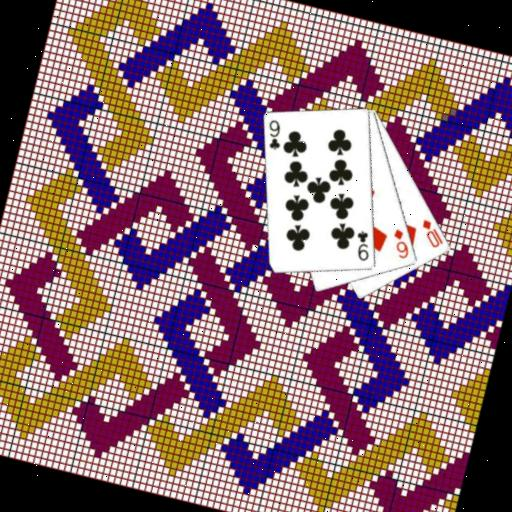10D: (415, 216, 450, 252)
6D: (386, 225, 416, 262)
9C: (349, 226, 377, 264), (261, 116, 289, 153)
